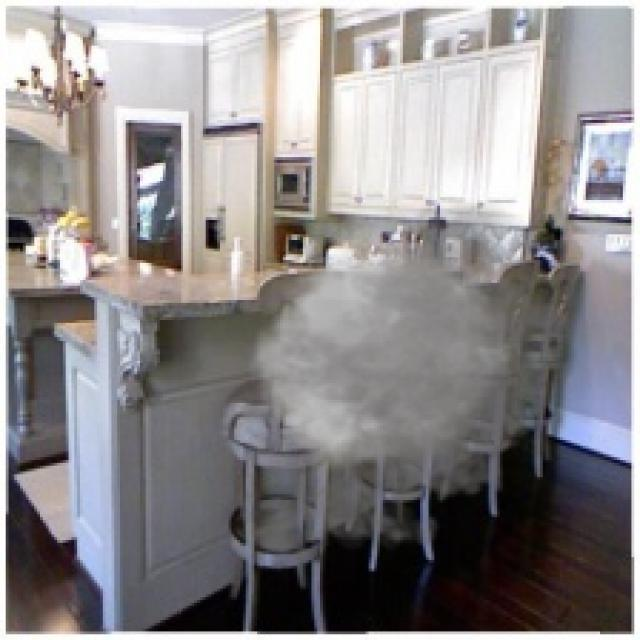Smoke: (180, 186, 586, 572)
